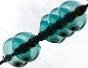gap: (12, 14, 65, 62)
